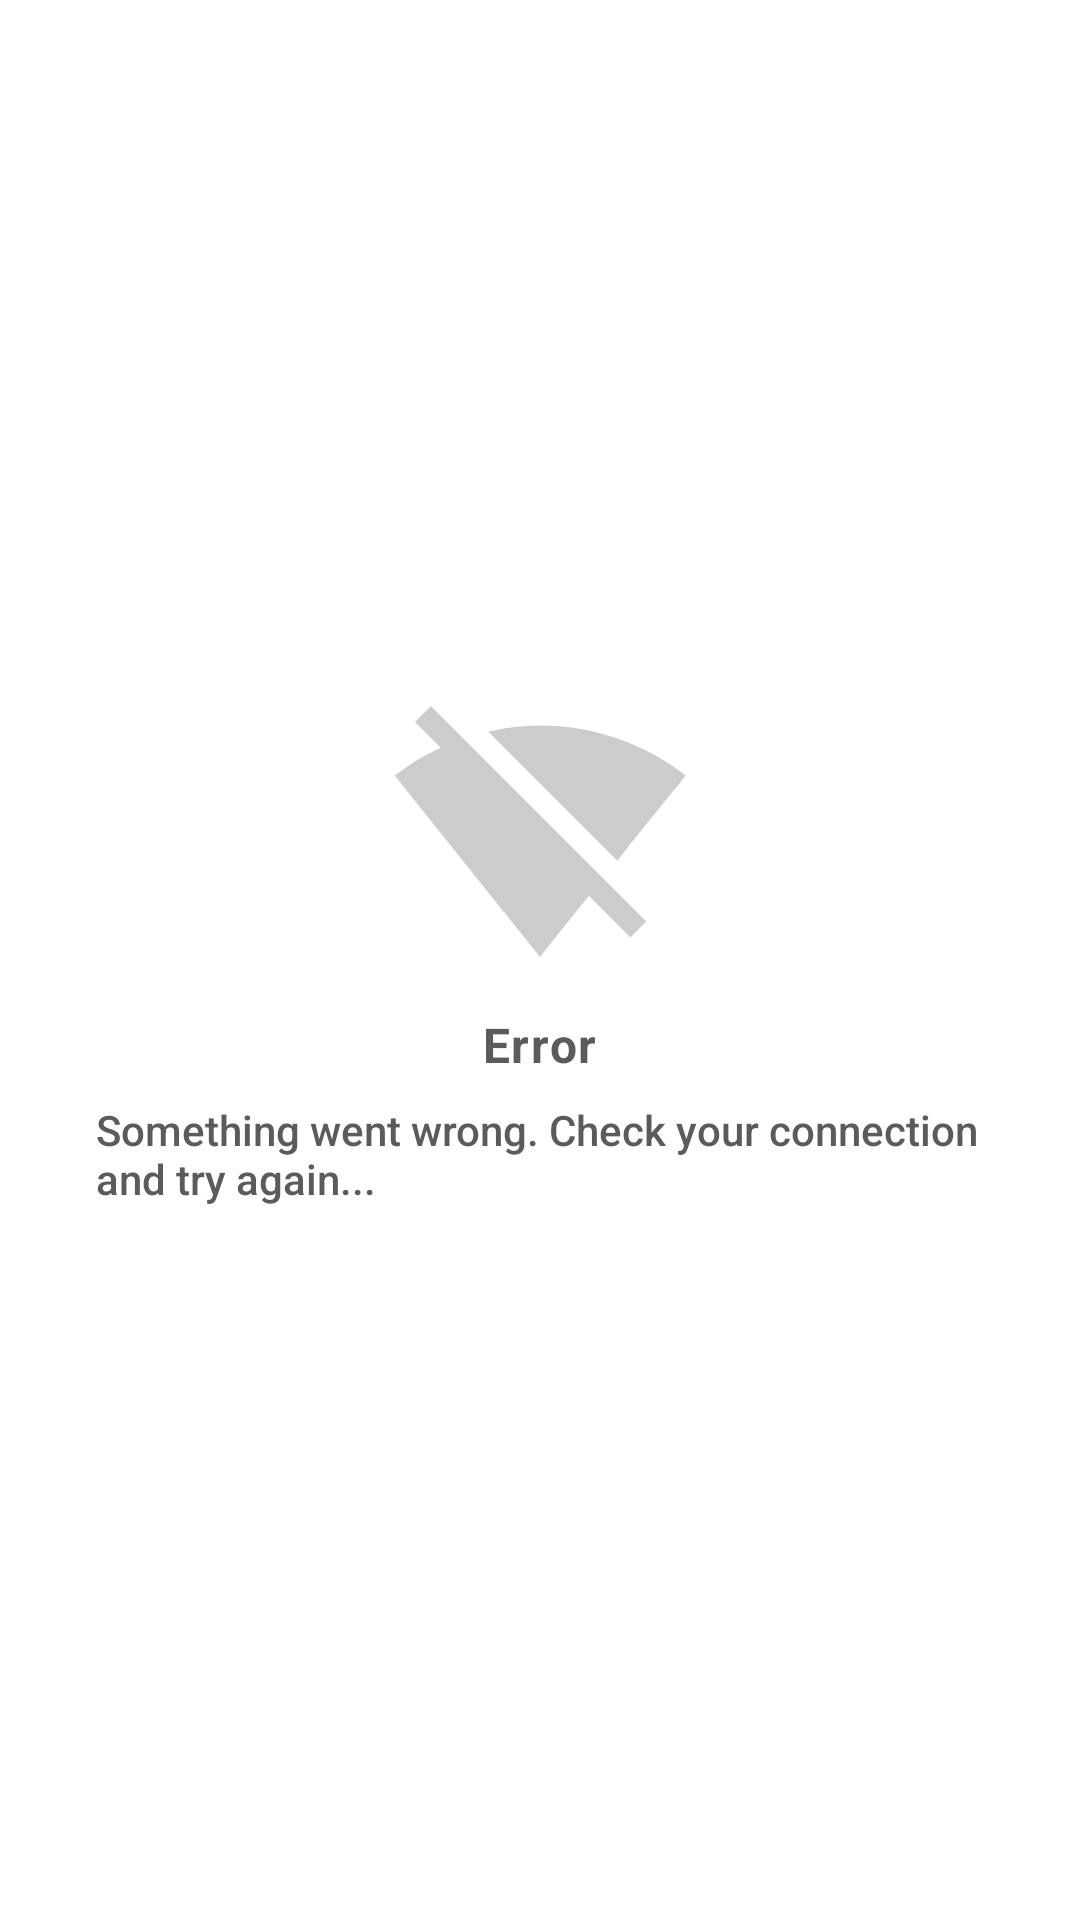

Point at icon controls on the screen. Image size 1080px x 1920px, points as (x=x, y=y).
signal wifi off: (x=540, y=831)
